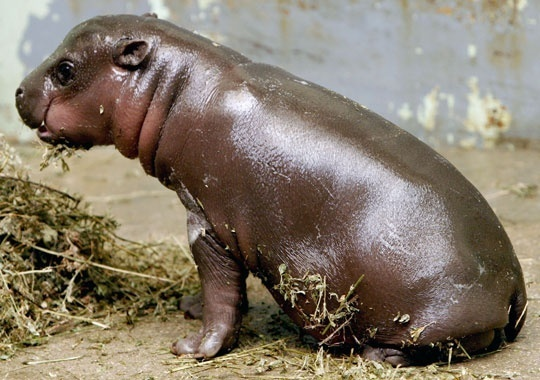hipopotamo: (9, 5, 533, 366)
